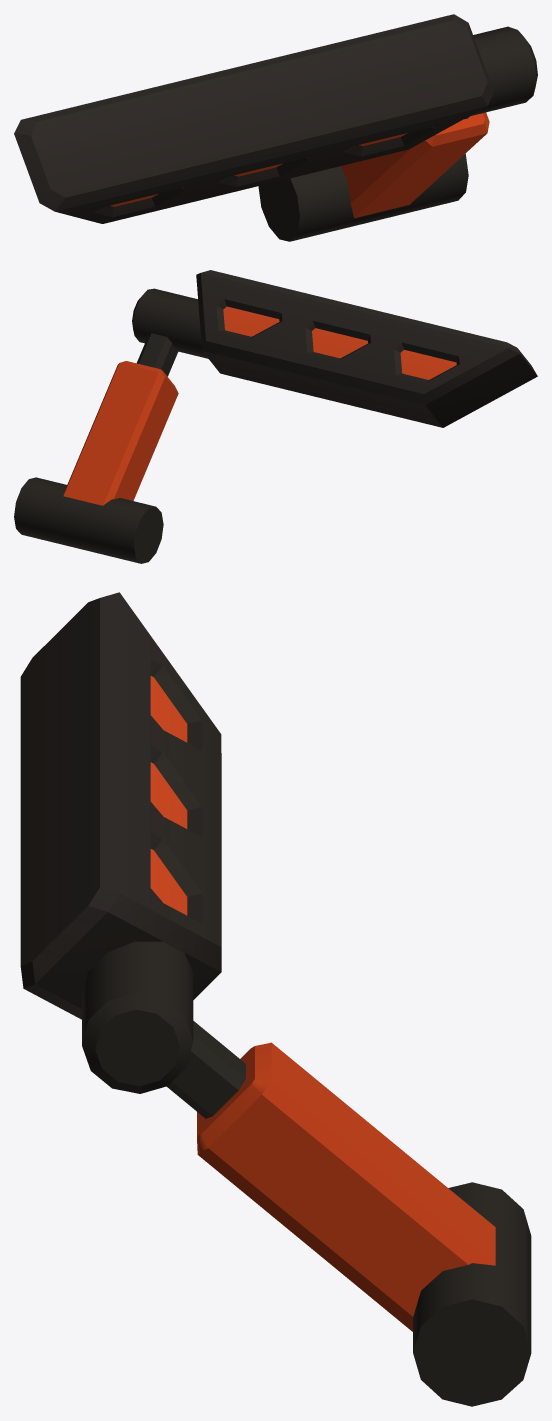
Rendered from MG4_Handle.fbx.
3 renders of one model, top to bottom at view 1: azimuth 30°, elevation 25°; view 2: azimuth 150°, elevation 25°; view 3: azimuth 270°, elevation 25°, orthographic. The views are drawn at different scales.
Parts seen in each view (by area): view 1: MG4_Handle; view 2: MG4_Handle; view 3: MG4_Handle.
Boxes of the visible parts, x1,y1,x2,y2 form: MG4_Handle: [14, 14, 537, 241]; MG4_Handle: [14, 270, 537, 563]; MG4_Handle: [20, 592, 531, 1406].
Bounding box in the file's own units: 21.75 × 11.25 × 12.03.
